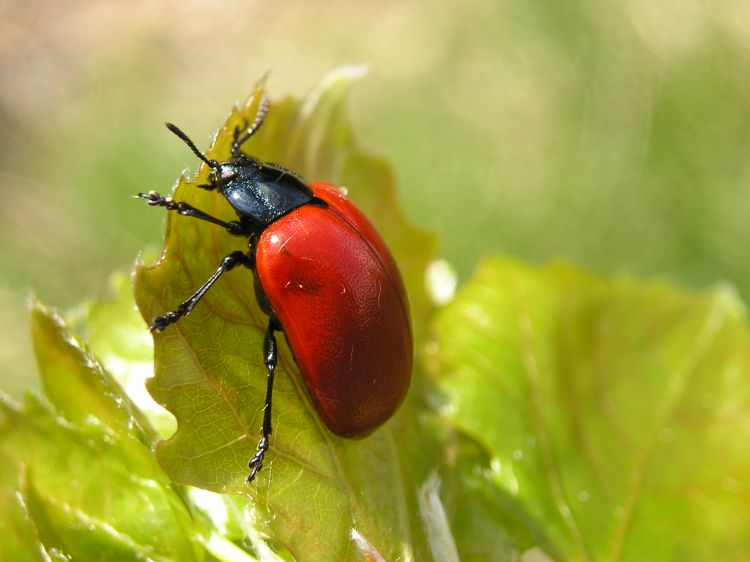Chrysomela_populi: (141, 100, 421, 489)
